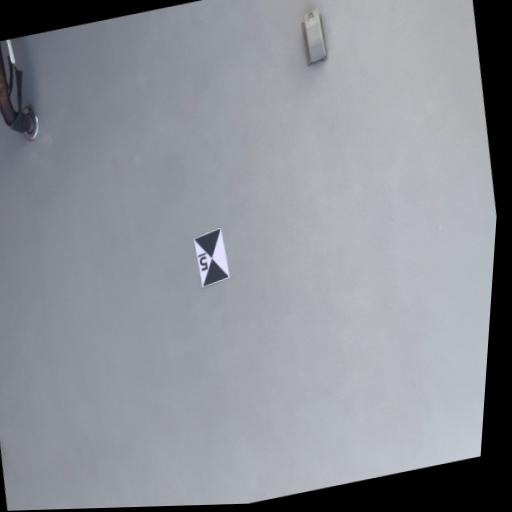target5: (194, 227, 229, 288)
